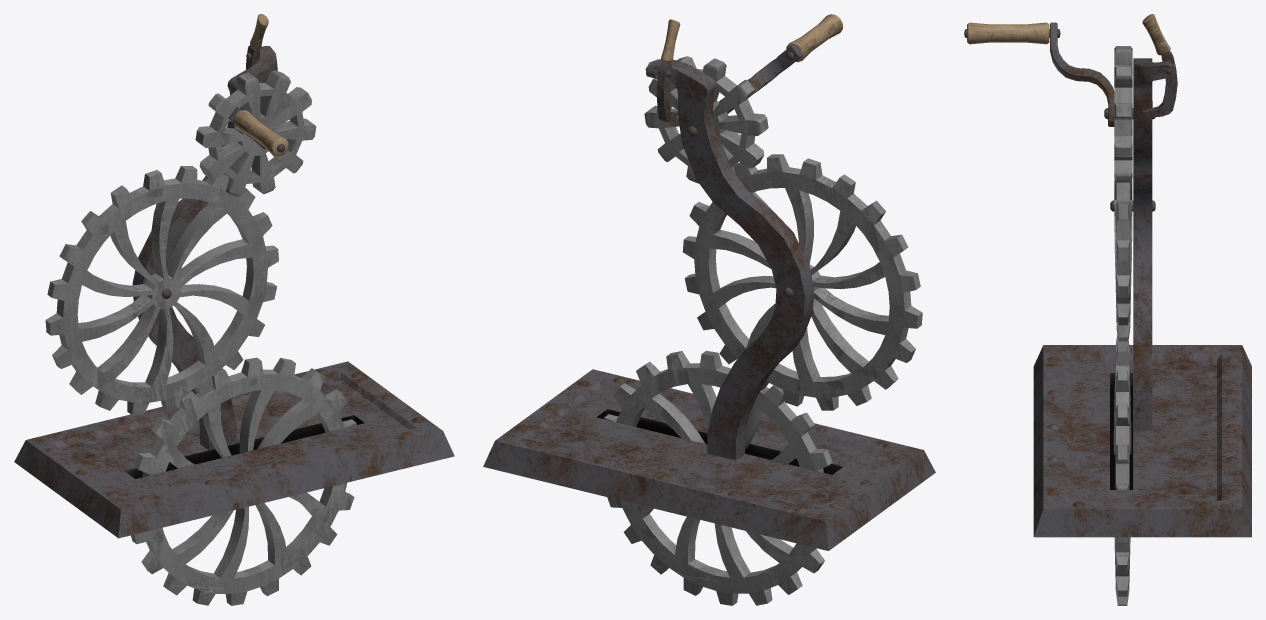
The model's file is gears_mechanism.glb.
The picture shows the model from 3 angles, left to right: view 1: azimuth 30°, elevation 25°; view 2: azimuth 150°, elevation 25°; view 3: azimuth 270°, elevation 25°; orthographic projection. The views are drawn at different scales.
Parts seen in each view (by area): view 1: pSphere20, pTorus2, pTorus4, polySurface5, pCube1, pCylinder8; view 2: pSphere20, pTorus2, pTorus4, pCube1, polySurface5, pCylinder8; view 3: pSphere20, pCube1, polySurface5, pTorus4, pTorus2, pCylinder8.
Part boxes in pixels (box(x1,y1,x2,y2)): pSphere20: box(14, 361, 454, 538); pTorus2: box(45, 166, 278, 415); pTorus4: box(131, 357, 356, 605); polySurface5: box(195, 70, 316, 196); pCube1: box(132, 46, 277, 450); pCylinder8: box(245, 14, 268, 69); pSphere20: box(483, 369, 935, 550); pTorus2: box(682, 154, 922, 410); pTorus4: box(604, 350, 832, 605); pCube1: box(646, 59, 814, 460); polySurface5: box(644, 14, 842, 183); pCylinder8: box(656, 19, 680, 122); pSphere20: box(1033, 345, 1251, 537); pCube1: box(1133, 58, 1175, 430); polySurface5: box(964, 22, 1132, 181); pTorus4: box(1113, 334, 1131, 605); pTorus2: box(1114, 179, 1132, 341); pCylinder8: box(1142, 14, 1177, 117).
Bounding box in the file's own units: 0.221 × 0.3301 × 0.1448.
Materials: 1 (1 with a texture image).
